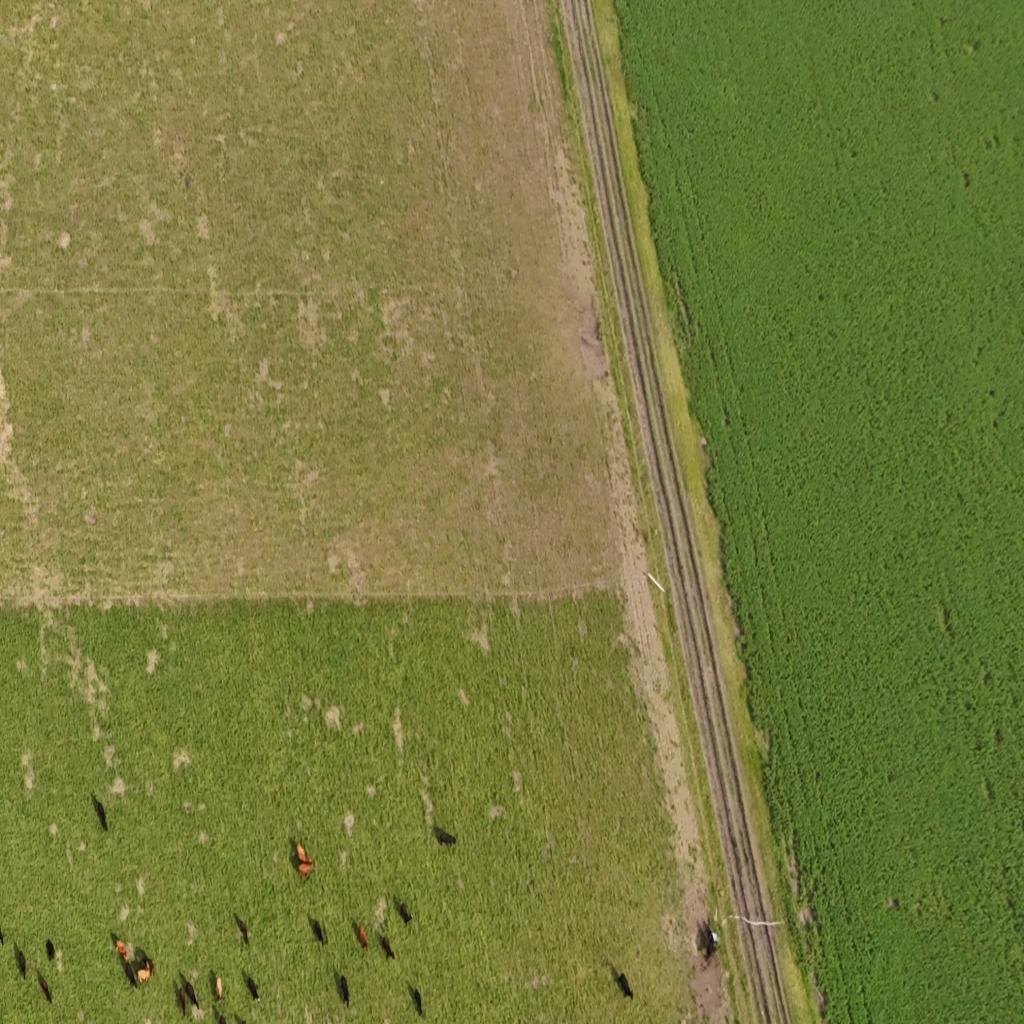cow: (611, 962, 635, 1002), (708, 913, 728, 952), (92, 794, 109, 832), (120, 954, 138, 989), (234, 912, 250, 946), (335, 971, 349, 1008), (379, 931, 395, 962), (185, 982, 202, 1011), (409, 984, 423, 1018), (434, 826, 456, 847), (38, 972, 52, 1004), (245, 973, 260, 1002), (178, 983, 190, 1017), (14, 945, 26, 979), (311, 918, 325, 945), (398, 901, 413, 925), (296, 862, 316, 880), (296, 842, 311, 863), (115, 938, 128, 961), (136, 963, 150, 983), (142, 954, 155, 975), (358, 925, 368, 951), (46, 939, 55, 961), (215, 1009, 227, 1024), (216, 975, 222, 1000), (234, 1012, 246, 1024), (0, 925, 5, 947)
